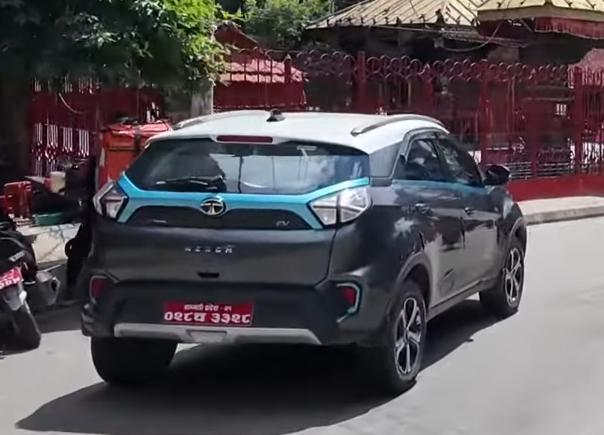car: (63, 109, 597, 382)
